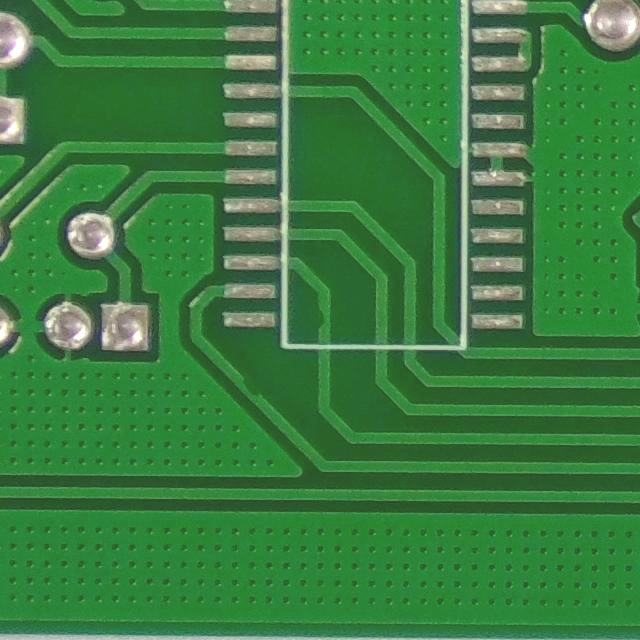mouse_bite: (305, 302, 336, 338)
